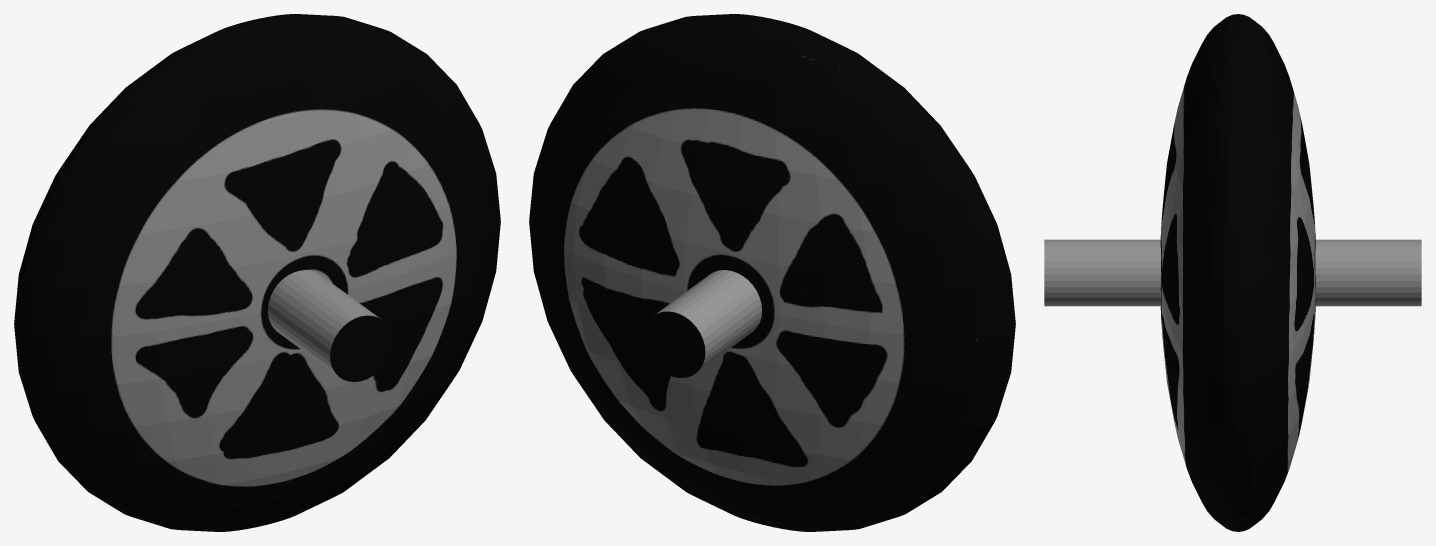
Rendered from playerTire.obj.
3 renders of one model, left to right at view 1: azimuth 30°, elevation 25°; view 2: azimuth 150°, elevation 25°; view 3: azimuth 270°, elevation 25°, orthographic. The views are drawn at different scales.
Visible parts, largest first — view 1: 球; view 2: 球; view 3: 球.
Part boxes in pixels (x1,y1,x2,y2): 球: [14, 14, 500, 531]; 球: [529, 14, 1015, 531]; 球: [1044, 14, 1421, 531].
Size of the model in its own units: 0.6146 by 0.6146 by 0.4475.
Materials: 1 (1 with a texture image).
